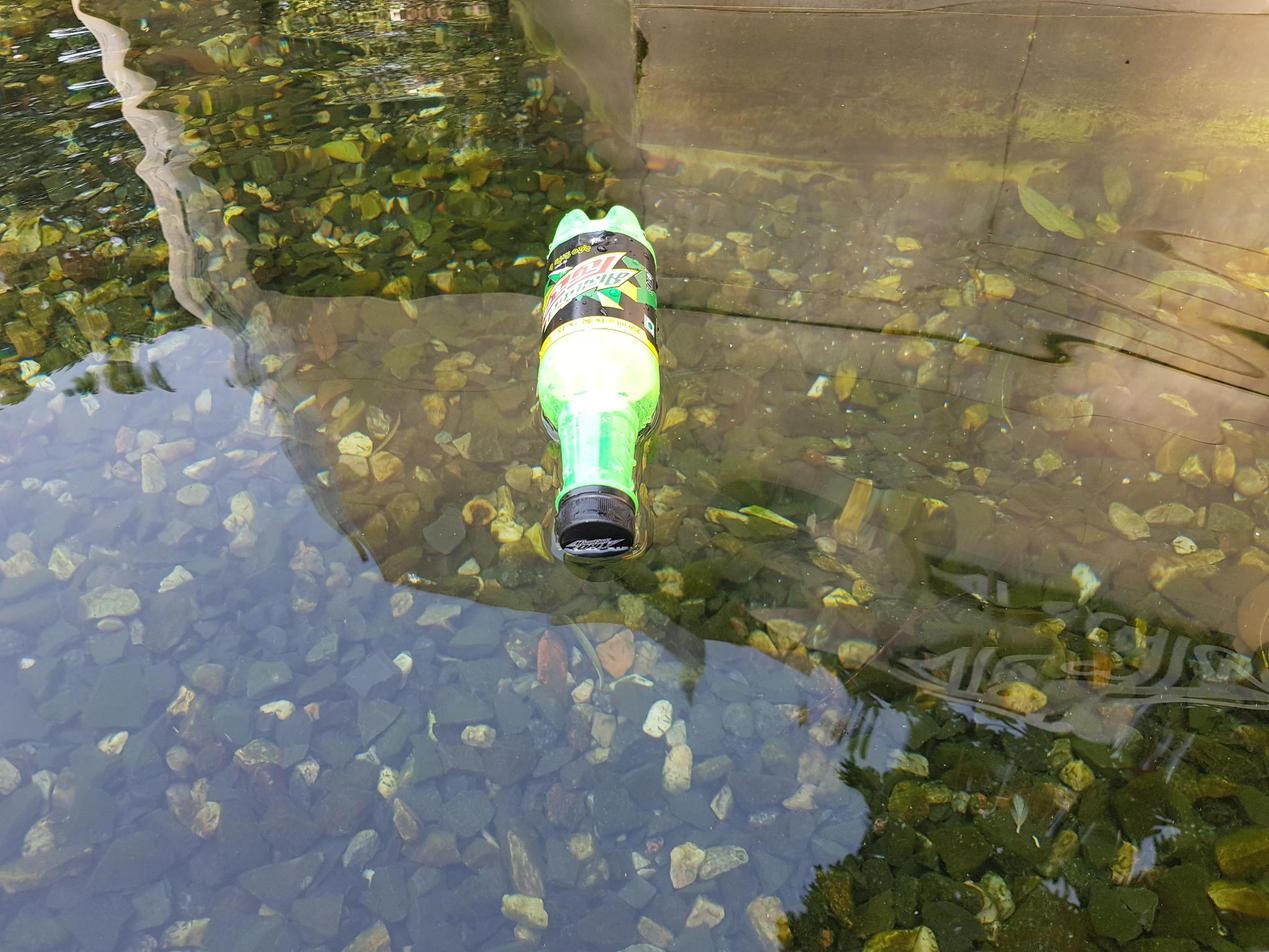trash_plastic: (545, 207, 662, 556)
